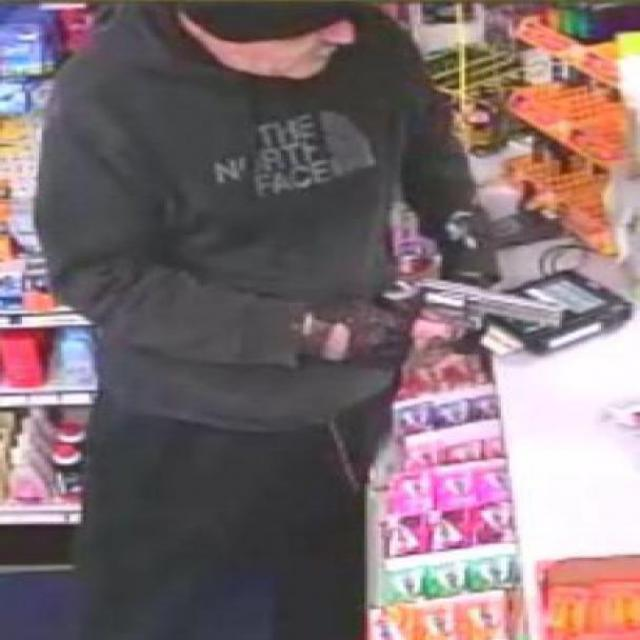gun: (367, 272, 568, 368)
